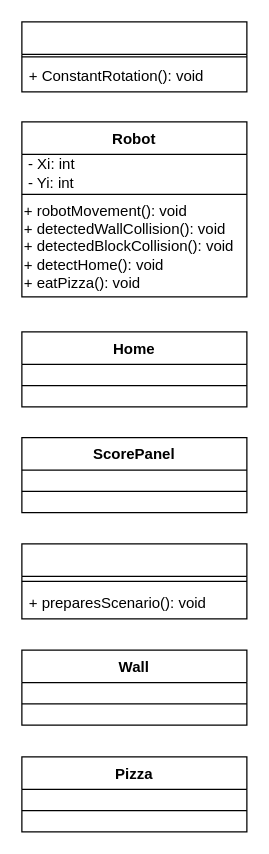
Some shapes in this 269 by 854 pixel diagram are drawn without their labels. The shapes that lost their labels are listed below. From the top down, each one's box as (x1, y1, x2, y2) in pixels, then its label:
(21, 21, 247, 92): Block
(21, 542, 247, 619): RobotWorld
